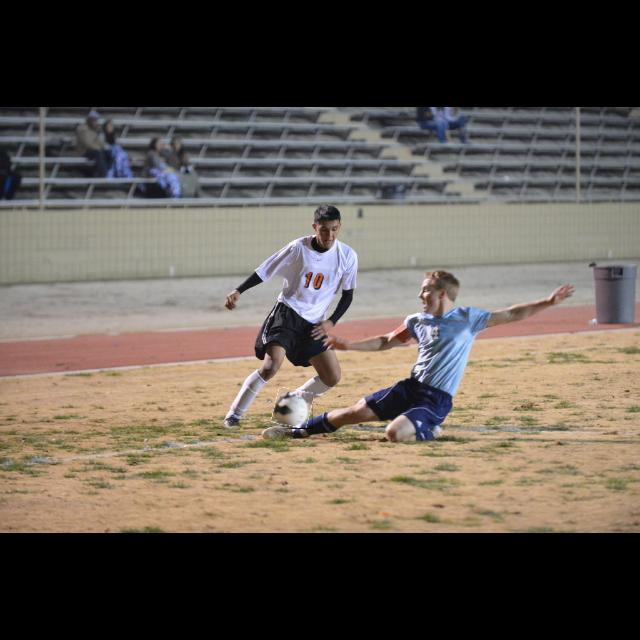Football: (273, 389, 313, 429)
